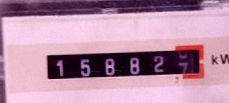1: (53, 57, 65, 76)
2: (152, 53, 164, 72)
5: (78, 56, 90, 77)
7: (177, 60, 188, 74)
8: (103, 55, 115, 76), (128, 55, 140, 76)
screen: (38, 38, 213, 87)
